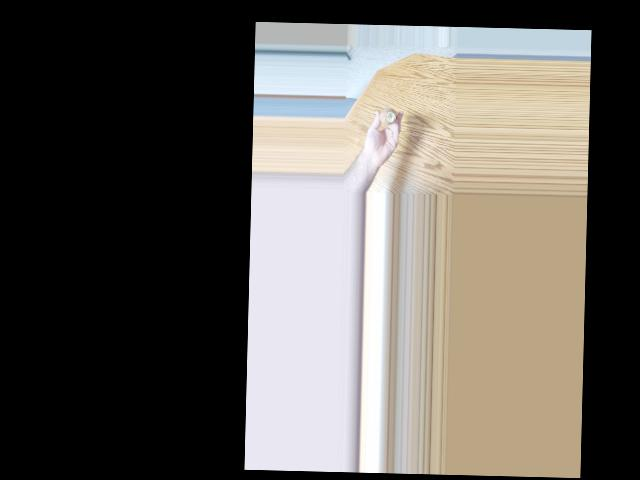sweet_potato: (377, 107, 396, 123)
